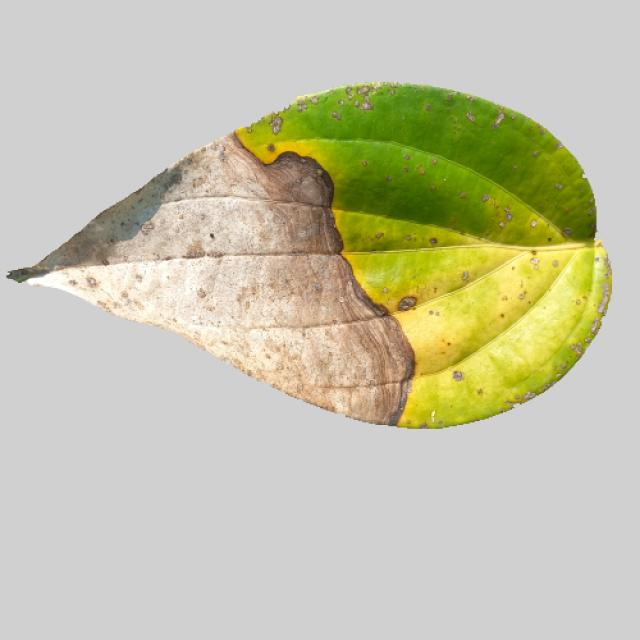leaf-blight: (0, 76, 619, 447)
